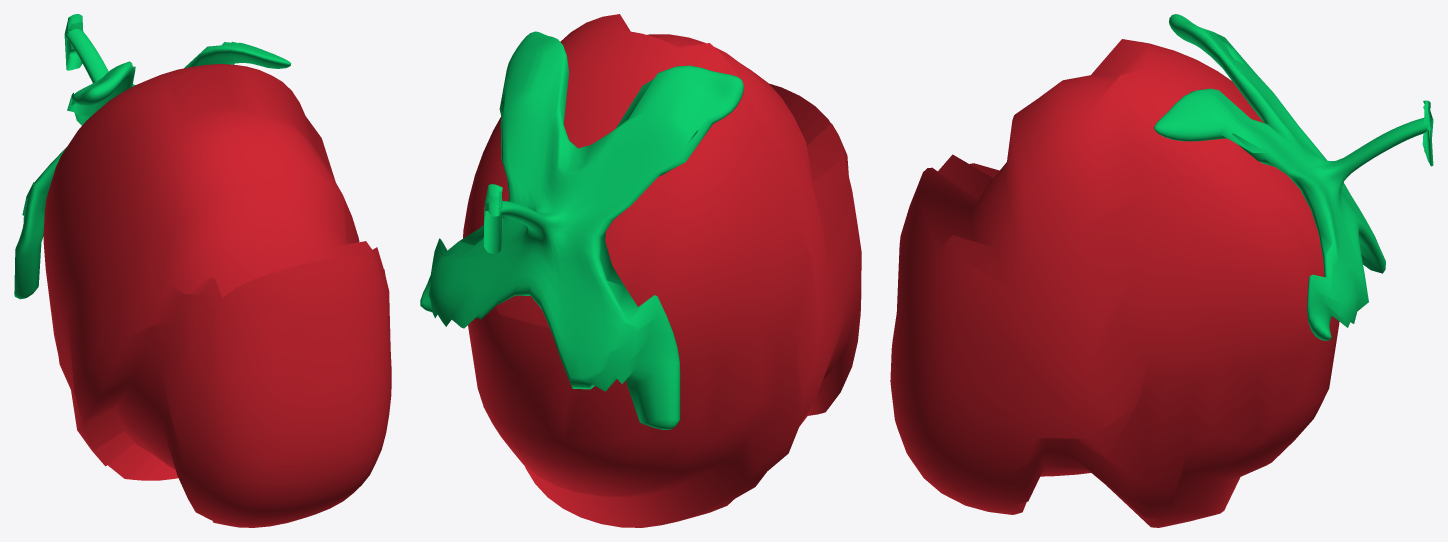
File: bentstrawberry.fbx
3 views of the same model, side by side, from view 1: azimuth 30°, elevation 25°; view 2: azimuth 150°, elevation 25°; view 3: azimuth 270°, elevation 25° (orthographic). The views are drawn at different scales.
Visible parts, largest first — view 1: polySurface4; view 2: polySurface4; view 3: polySurface4.
Boxes of the visible parts, x1,y1,x2,y2 form: polySurface4: [14, 14, 391, 527]; polySurface4: [420, 14, 861, 527]; polySurface4: [890, 14, 1433, 527].
Size of the model in its own units: 1.17 by 1.72 by 1.88.
